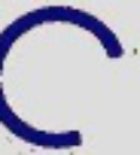ProgressBar: (1, 1, 139, 154)
